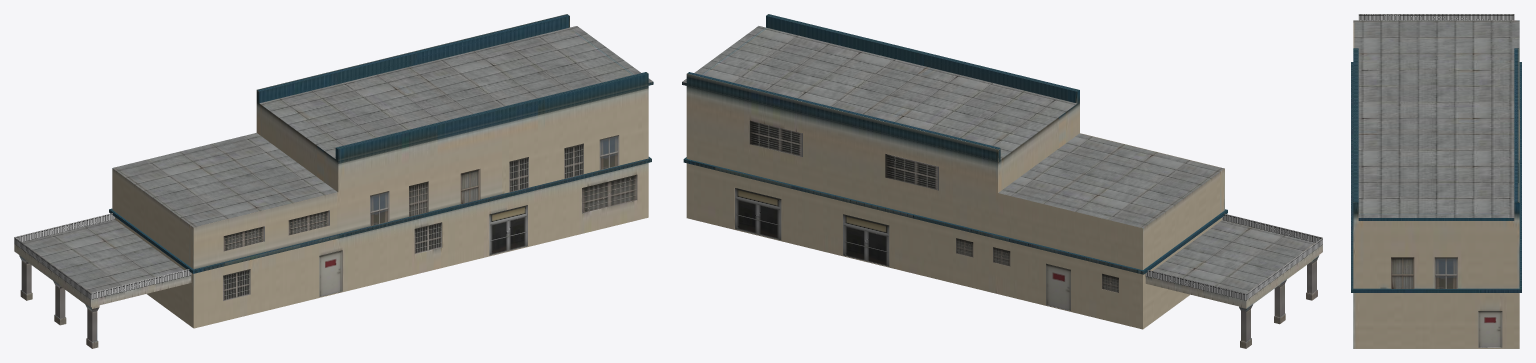
3 views of the same model, side by side, from view 1: azimuth 30°, elevation 25°; view 2: azimuth 150°, elevation 25°; view 3: azimuth 270°, elevation 25° (orthographic).
Parts seen in each view (by area): view 1: wh-l8; view 2: wh-l8; view 3: wh-l8.
Boxes of the visible parts, box(x1,y1,x2,y2) form: wh-l8: box(14, 14, 653, 348); wh-l8: box(682, 14, 1322, 348); wh-l8: box(1351, 14, 1521, 348).
Size of the model in its own units: 46 by 11.24 by 11.9.
1 material, 1 textured.
